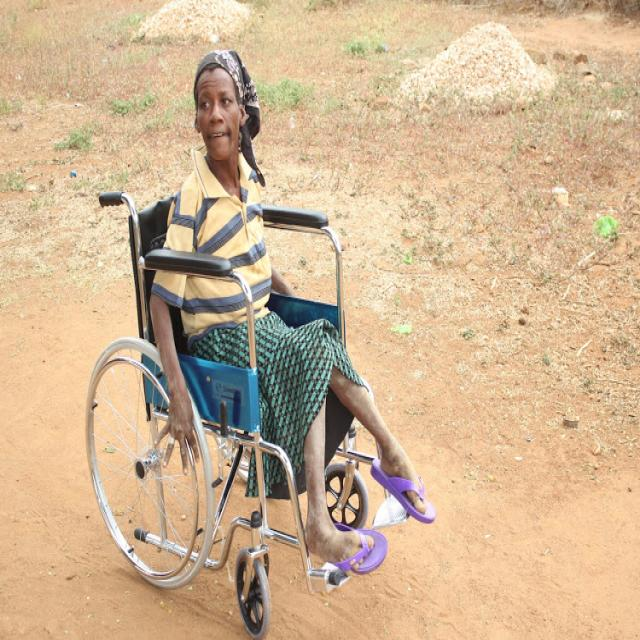wheelchairs: (79, 179, 428, 640)
